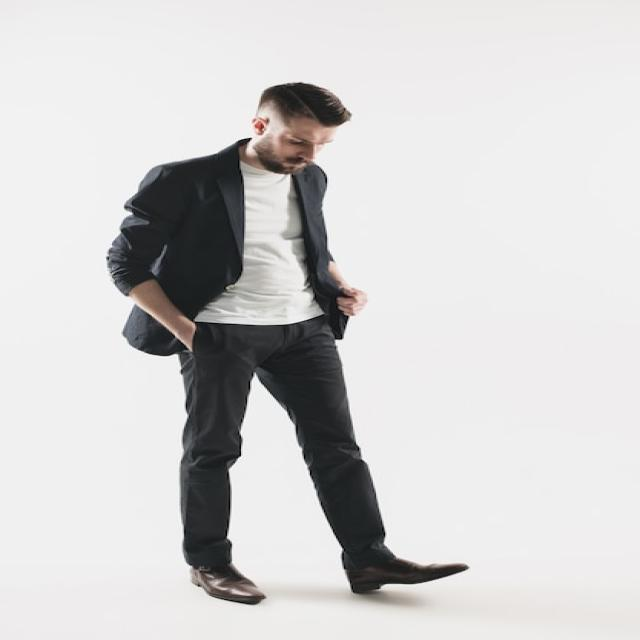Person: (108, 80, 468, 604)
